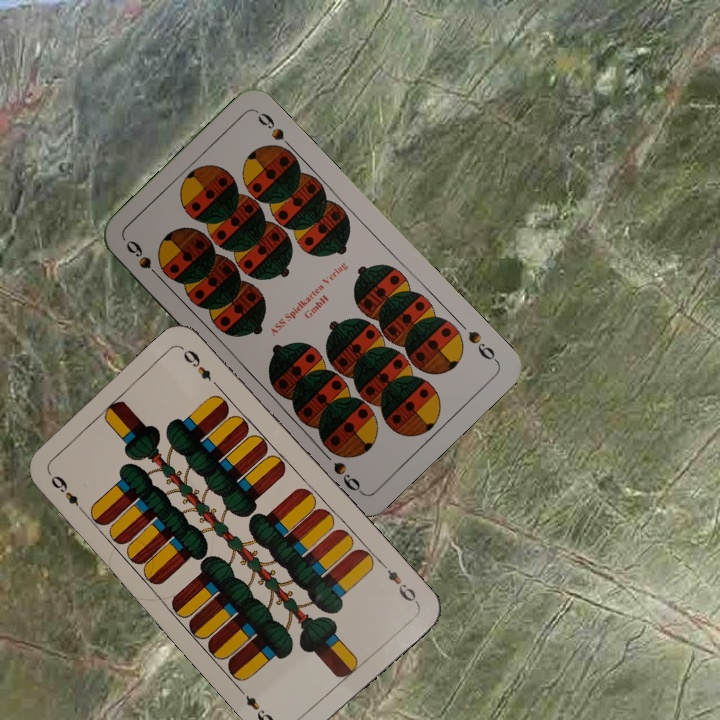E9: (377, 558, 420, 606), (46, 471, 87, 516)
S9: (121, 236, 166, 284), (463, 326, 501, 365)
